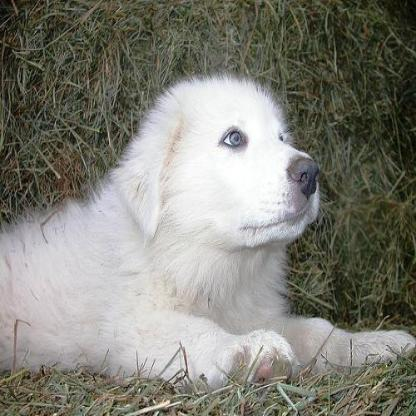Great_Pyrenees: (0, 73, 414, 382)
